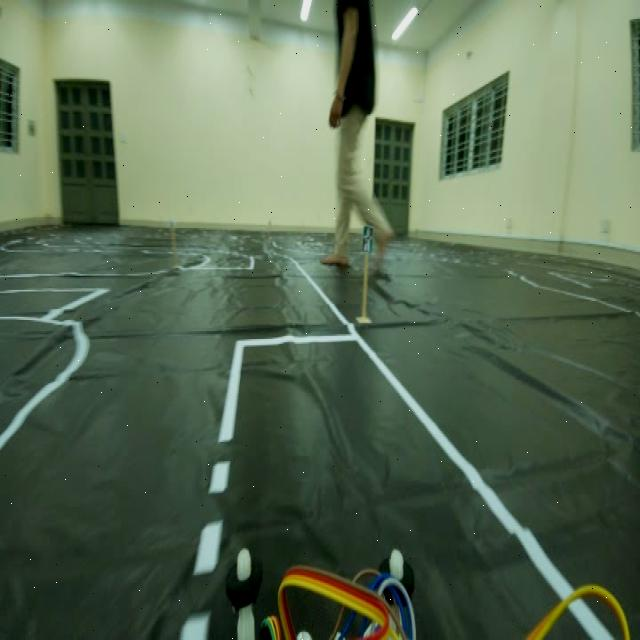highway_exit: (361, 218, 375, 259)
